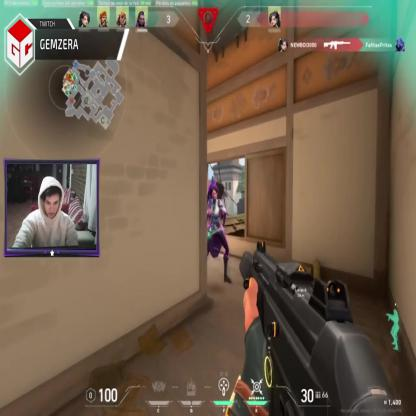enemy: (203, 180, 231, 286)
enemy_head: (211, 186, 218, 201)
